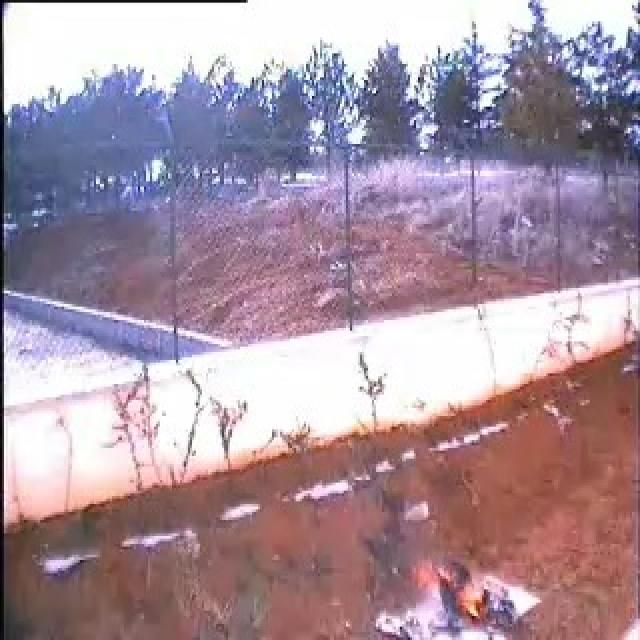fire: (456, 588, 487, 628)
smoke: (390, 524, 435, 560)
